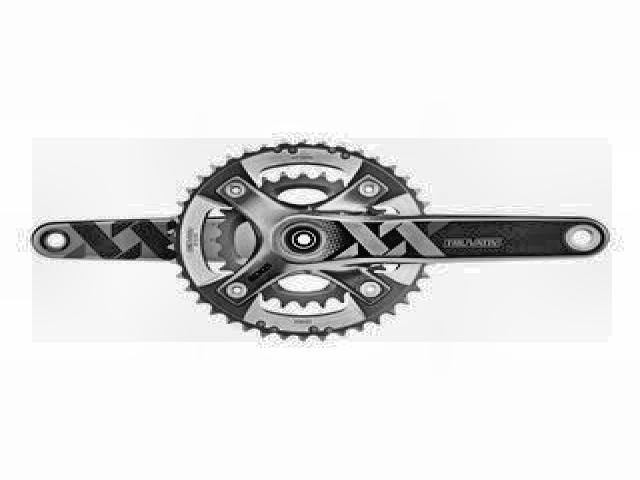cranks_set: (170, 136, 612, 344)
